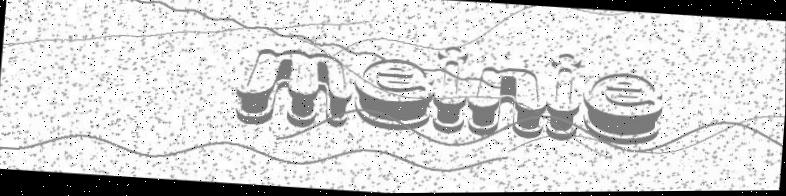e: (351, 52, 437, 137), (577, 68, 665, 148)
i: (544, 50, 586, 143), (431, 41, 471, 137)
m: (228, 41, 357, 133)
n: (467, 61, 549, 140)
